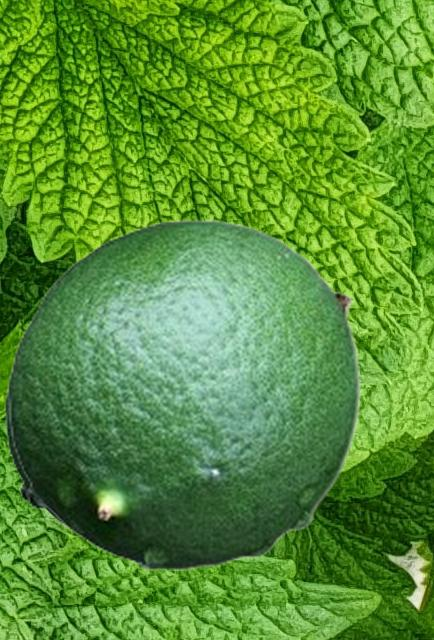calamansi: (7, 218, 360, 569)
